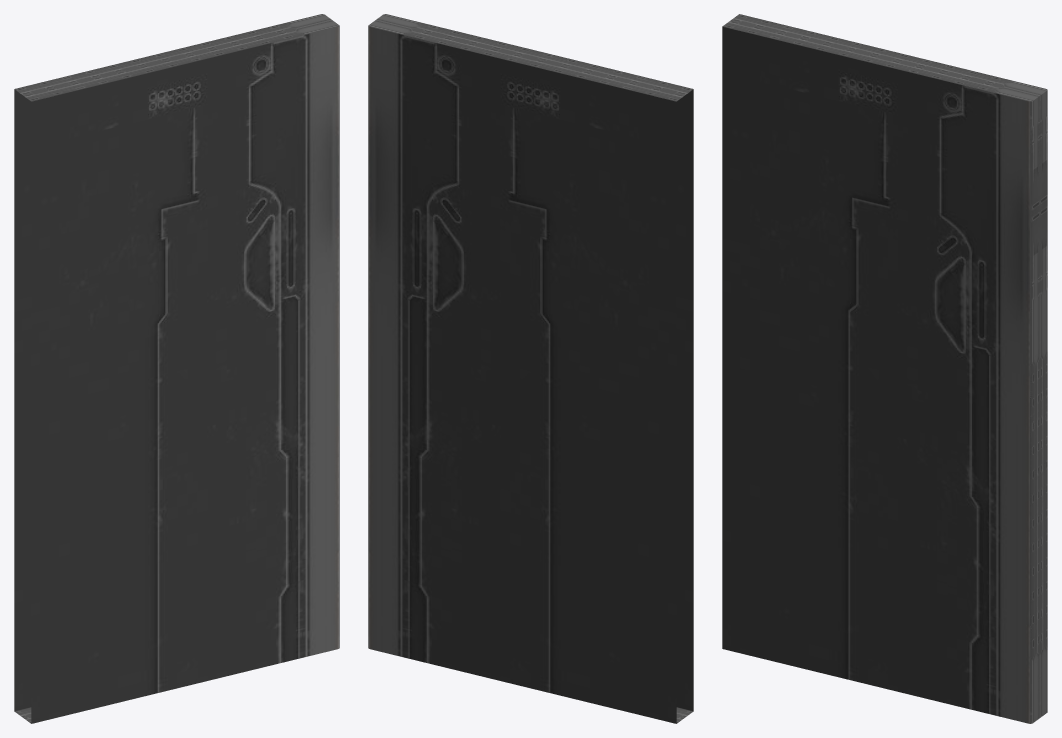
File: door_darkmetal.gltf
The picture shows the model from 3 angles, left to right: view 1: azimuth 30°, elevation 25°; view 2: azimuth 150°, elevation 25°; view 3: azimuth 330°, elevation 25°; orthographic projection.
Visible parts, largest first — view 1: Door_DarkMetal; view 2: Door_DarkMetal; view 3: Door_DarkMetal.
Part boxes in pixels (box(x1,y1,x2,y2)): Door_DarkMetal: box(14, 14, 339, 723); Door_DarkMetal: box(368, 14, 693, 723); Door_DarkMetal: box(722, 14, 1047, 723).
Size of the model in its own units: 2.11 by 4.05 by 0.2032.
Materials: 1 (1 with a texture image).
